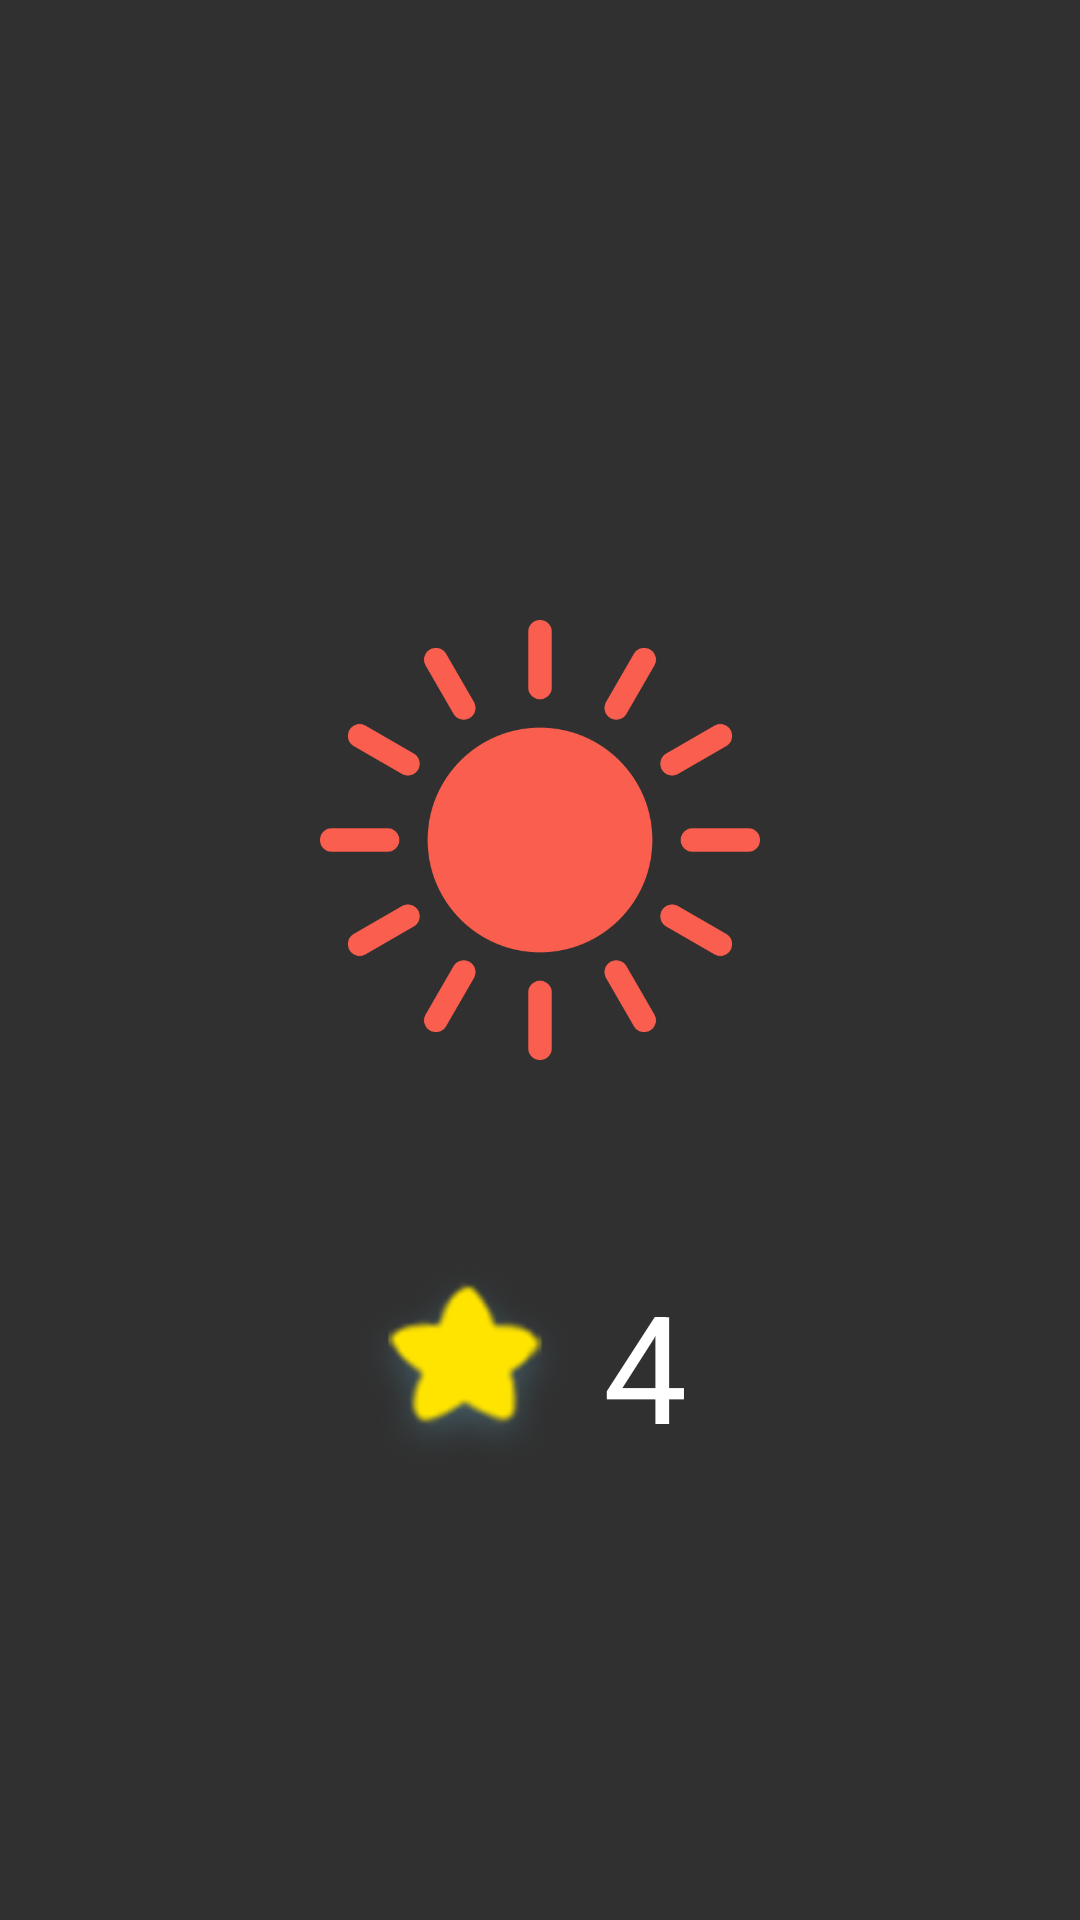

Named icons in this screenshot (1080 × 1920) and their bounding boxes, (x1, y1, x2, y2):
star: (388, 1285, 542, 1425)
